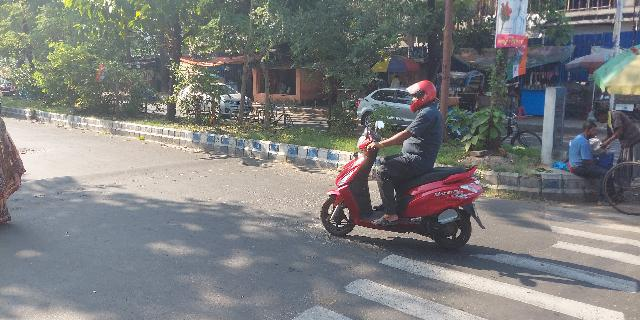Motorbike: (318, 78, 487, 254)
